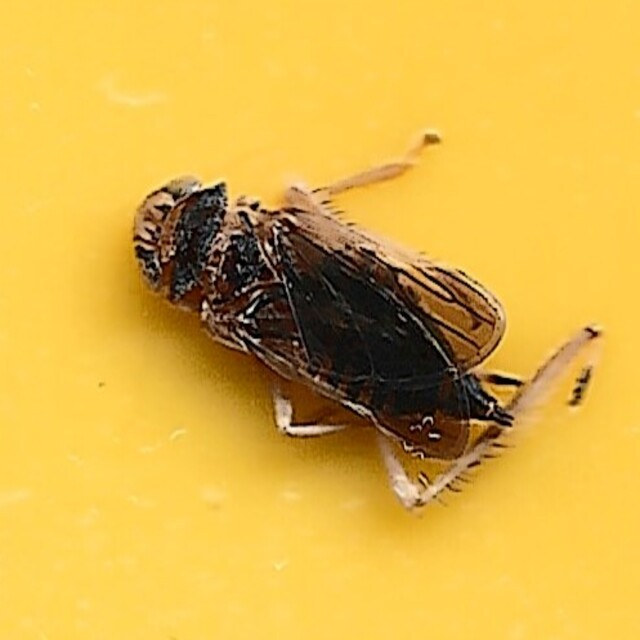Hemiptera: (129, 170, 511, 470)
